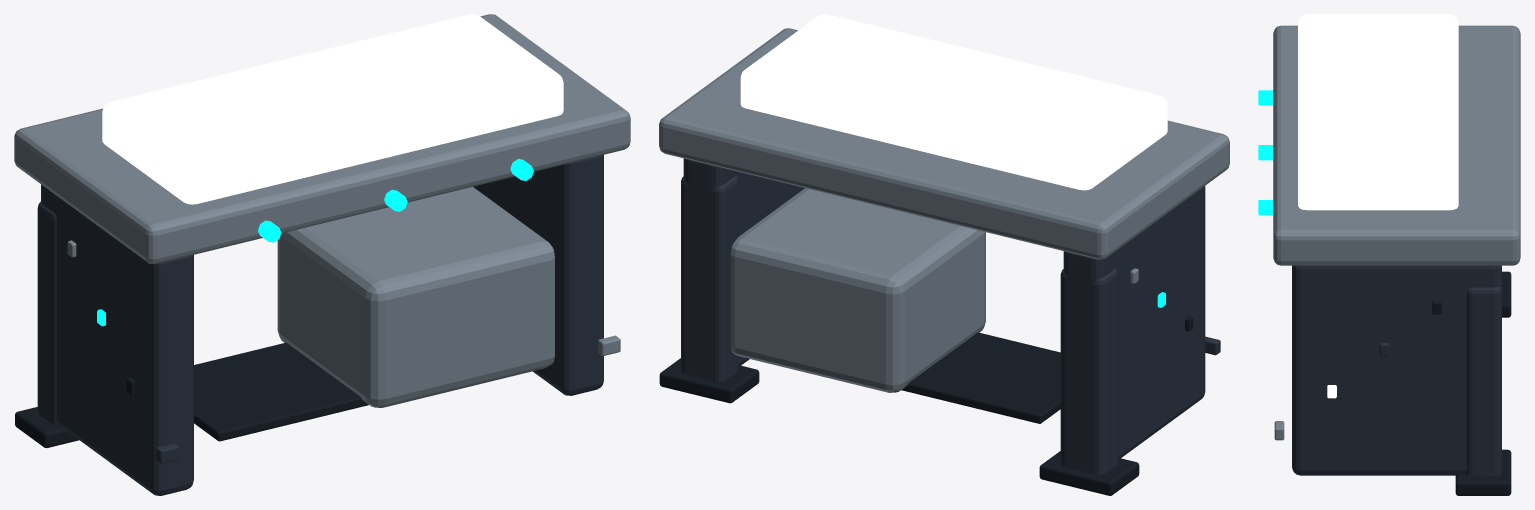
Rendered from furniture_techtown-automation-science-table-standard-099.glb.
The picture shows the model from 3 angles, left to right: view 1: azimuth 30°, elevation 25°; view 2: azimuth 150°, elevation 25°; view 3: azimuth 270°, elevation 25°; orthographic projection. The views are drawn at different scales.
Visible parts, largest first — view 1: component__user_contact_surface__contact_surface, component__storage_or_access_component__storage, component__primary_use_surface__use_surface, component__load_bearing_frame__frame.001, component__load_bearing_frame__frame, component__interaction_clearance__clearance_marker, component__legs_pedestal_or_wall_mount__leg.001, component__floor_or_wall_contact_detail__floor_contact.001; view 2: component__user_contact_surface__contact_surface, component__storage_or_access_component__storage, component__primary_use_surface__use_surface, component__load_bearing_frame__frame.001, component__legs_pedestal_or_wall_mount__leg.001, component__interaction_clearance__clearance_marker, component__load_bearing_frame__frame, component__legs_pedestal_or_wall_mount__leg, component__floor_or_wall_contact_detail__floor_contact.001, component__floor_or_wall_contact_detail__floor_contact; view 3: component__load_bearing_frame__frame, component__user_contact_surface__contact_surface, component__primary_use_surface__use_surface, component__legs_pedestal_or_wall_mount__leg, component__floor_or_wall_contact_detail__floor_contact, component__floor_or_wall_contact_detail__floor_contact.001.
Part boxes in pixels (x1,y1,x2,y2): component__user_contact_surface__contact_surface: (102, 14, 563, 204); component__storage_or_access_component__storage: (277, 187, 554, 407); component__primary_use_surface__use_surface: (14, 14, 630, 264); component__load_bearing_frame__frame.001: (41, 184, 193, 495); component__load_bearing_frame__frame: (473, 155, 603, 395); component__interaction_clearance__clearance_marker: (194, 342, 368, 441); component__legs_pedestal_or_wall_mount__leg.001: (37, 202, 58, 425); component__floor_or_wall_contact_detail__floor_contact.001: (15, 407, 78, 447); component__user_contact_surface__contact_surface: (740, 14, 1167, 190); component__storage_or_access_component__storage: (730, 188, 985, 392); component__primary_use_surface__use_surface: (659, 28, 1229, 259); component__load_bearing_frame__frame.001: (1063, 186, 1205, 468); component__legs_pedestal_or_wall_mount__leg.001: (1060, 269, 1118, 474); component__interaction_clearance__clearance_marker: (901, 332, 1060, 423); component__load_bearing_frame__frame: (683, 158, 804, 376); component__legs_pedestal_or_wall_mount__leg: (681, 176, 738, 381); component__floor_or_wall_contact_detail__floor_contact.001: (1039, 451, 1139, 495); component__floor_or_wall_contact_detail__floor_contact: (659, 358, 759, 403); component__load_bearing_frame__frame: (1292, 265, 1501, 475); component__user_contact_surface__contact_surface: (1298, 14, 1458, 210); component__primary_use_surface__use_surface: (1273, 25, 1520, 265); component__legs_pedestal_or_wall_mount__leg: (1466, 287, 1501, 476); component__floor_or_wall_contact_detail__floor_contact: (1455, 449, 1511, 495); component__floor_or_wall_contact_detail__floor_contact.001: (1502, 271, 1511, 317).
Size of the model in its own units: 1.3 by 0.85 by 0.6785.
